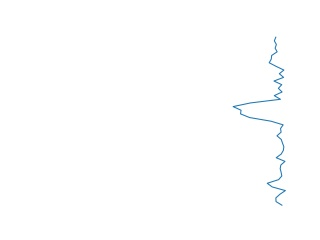interdistributaryEstuary: (229, 34, 294, 210)
